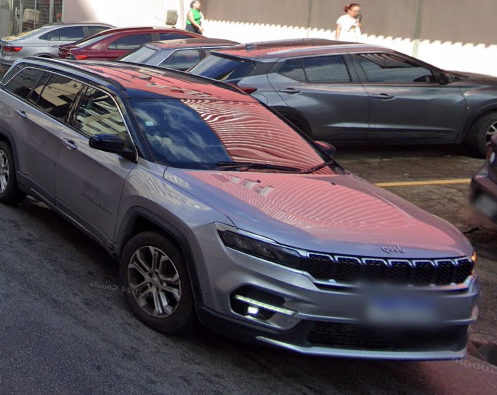car: (1, 51, 478, 366)
